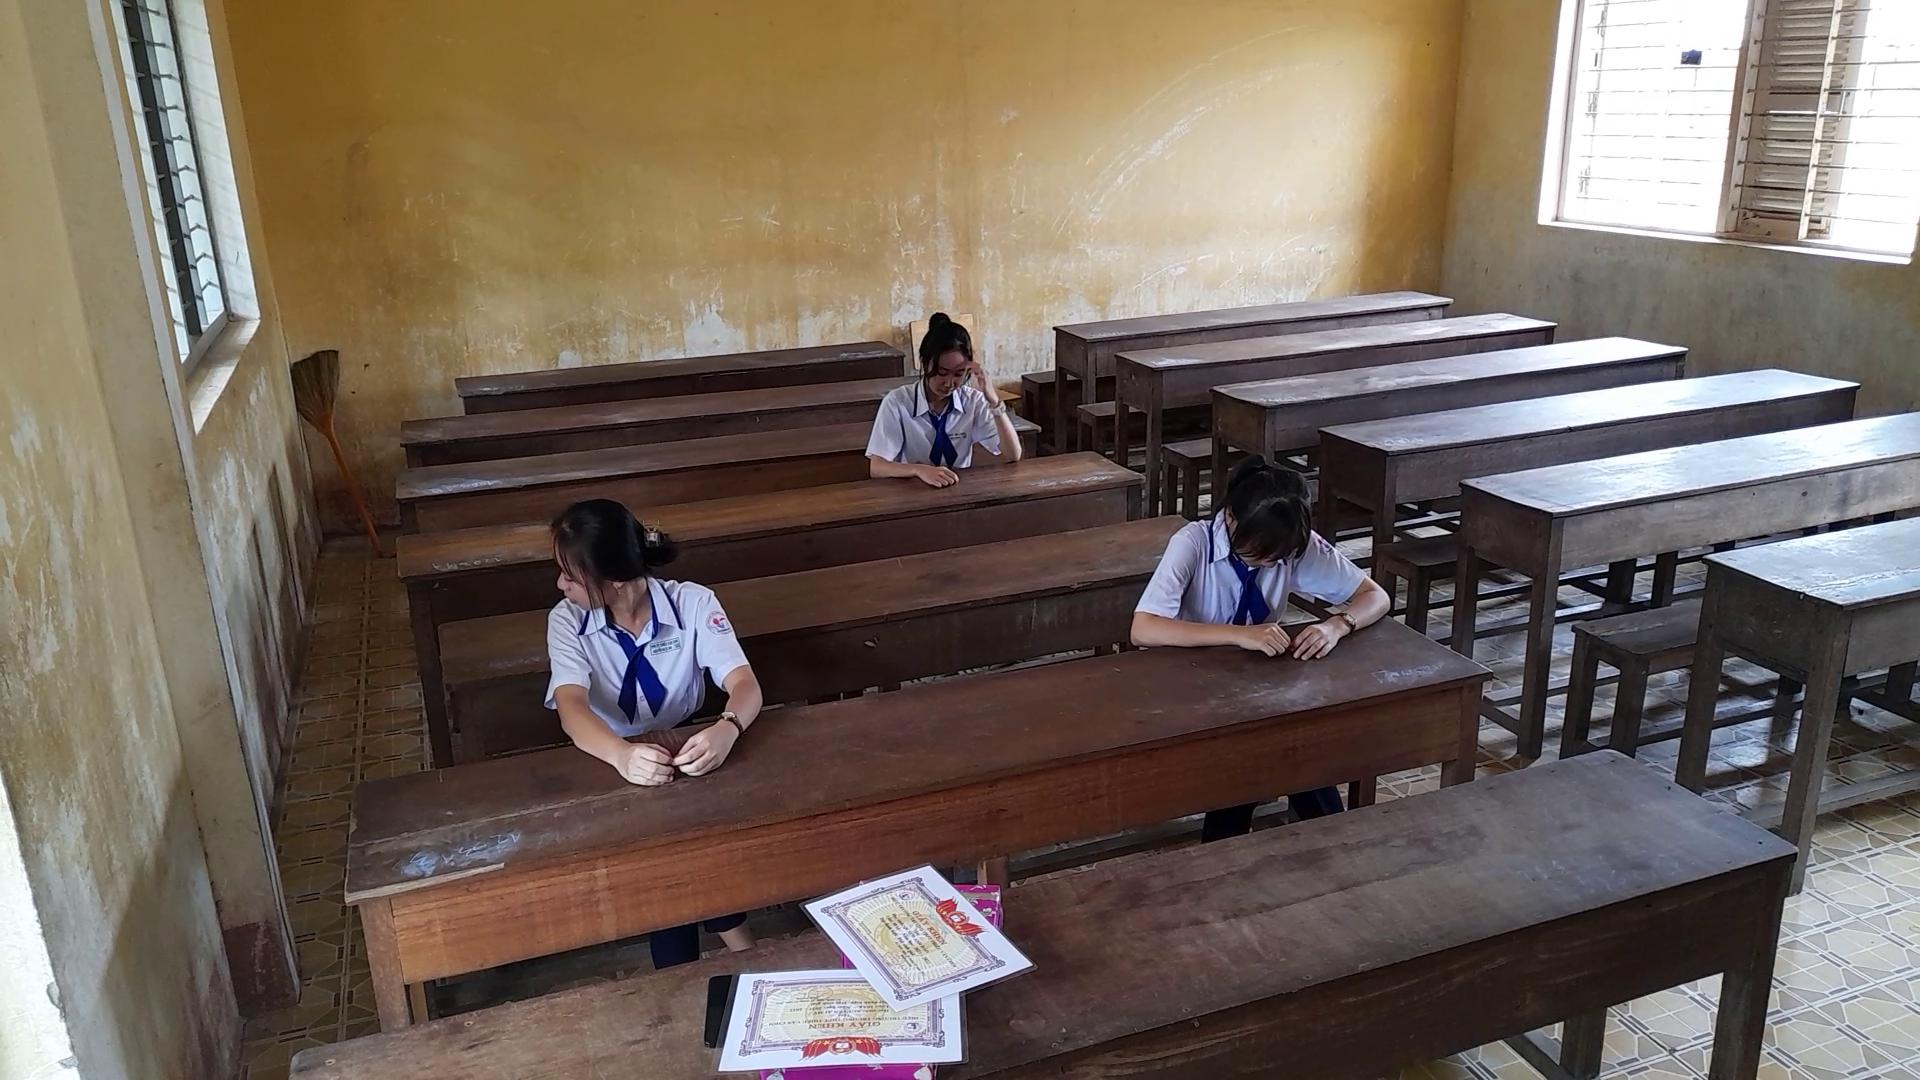Bend Over The Desk: (1197, 442, 1319, 589), (891, 305, 978, 407)
Look Around: (520, 477, 695, 611)
Wave: (964, 348, 1029, 469)
